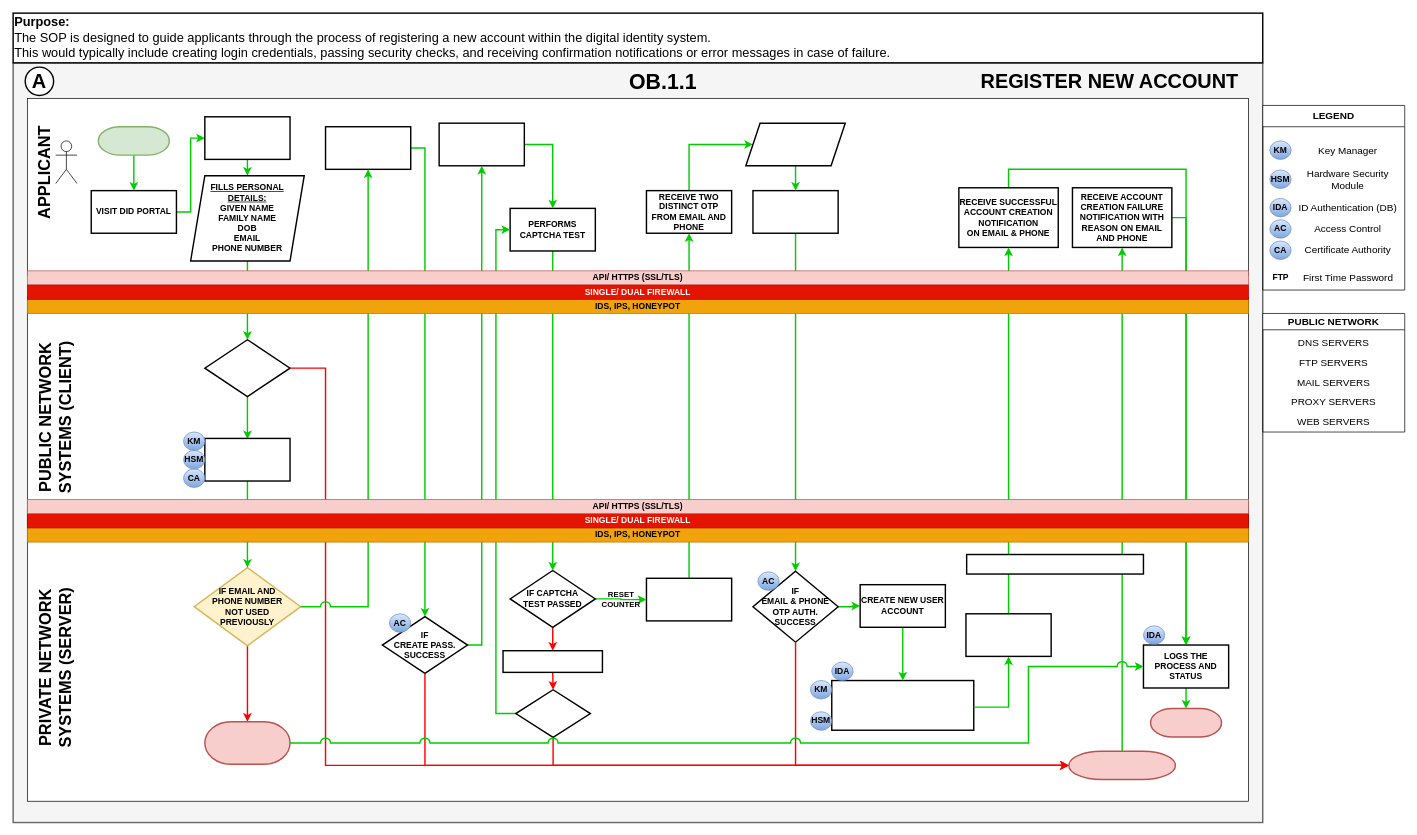
This 1417x835 diagram has some shape labels left out. Each missing label, with the centre of its shape:
ACCEPTS T&C FOR NEW ACCOUNT: (481,144)
ACTIVATE OTP AND PASSWORD AUTHENTICATOR: (1008,635)
CLICK NEW APPLICANT SIGN-UP: (247,138)
CREATE STRONG PASSWORD (without FTP) (B.1.4.1): (367,148)
END: (1185,722)
ENTER EMAIL AND PHONE OTP: (795,144)
EXCEPTION AND ERROR HANDLING (COUNTER): (552,661)
GENERATE OTP - EMAIL AND PHONE B.2.4.1.A: (688,599)
IF AGE >16 YEARS OLD: (247,368)
IF RETRY COUNT <=3: (553,713)
MASK & ENCRYPT USER DETAILS: (247,459)
NOTIFICATION GENERATOR: (1055,563)
OTP AUTHENTICATION (2FA) B.2.4.1.B: (795,212)
REDIRECT TO LOGIN PAGE (WITH REASON): (247,743)
START (ONLINE): (133,140)
STORE USER INFORMATION WITH ENCRYPTION AND HASHING: (902,705)
TERMINATE PROCESS: WITH ERROR MESSAGE: (1122,765)
USER: (66,162)
